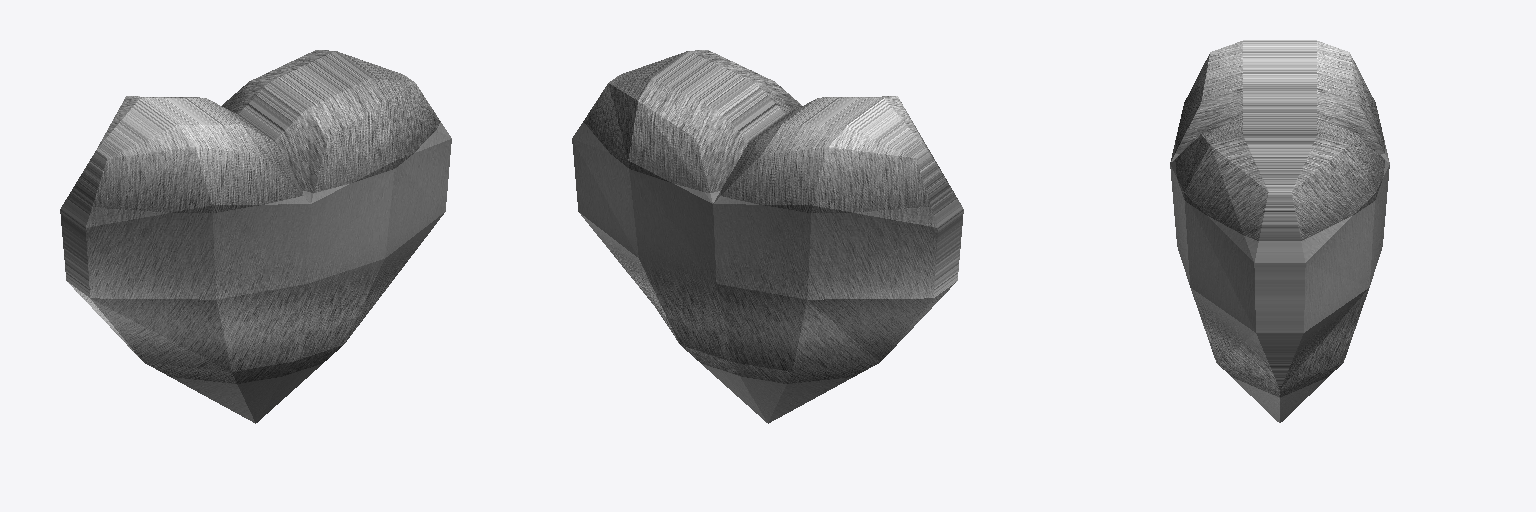
3 views of the same model, side by side, from view 1: azimuth 30°, elevation 25°; view 2: azimuth 150°, elevation 25°; view 3: azimuth 270°, elevation 25° (orthographic).
Visible parts, largest first — view 1: Heart; view 2: Heart; view 3: Heart.
Boxes of the visible parts, box(x1,y1,x2,y2) form: Heart: box(60, 50, 451, 423); Heart: box(572, 50, 963, 423); Heart: box(1170, 40, 1389, 422).
Bounding box in the file's own units: 15.53 × 13.61 × 8.08.
Materials: 1 (1 with a texture image).